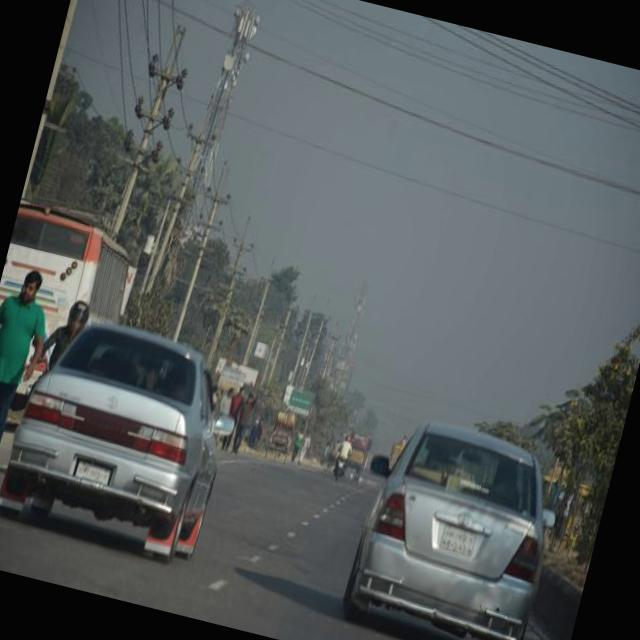bus: (0, 199, 141, 411), (343, 428, 373, 466)
car: (0, 302, 246, 544), (337, 404, 570, 640)
motorcycle: (261, 402, 299, 462), (328, 446, 350, 478)
truck: (386, 437, 400, 465)
